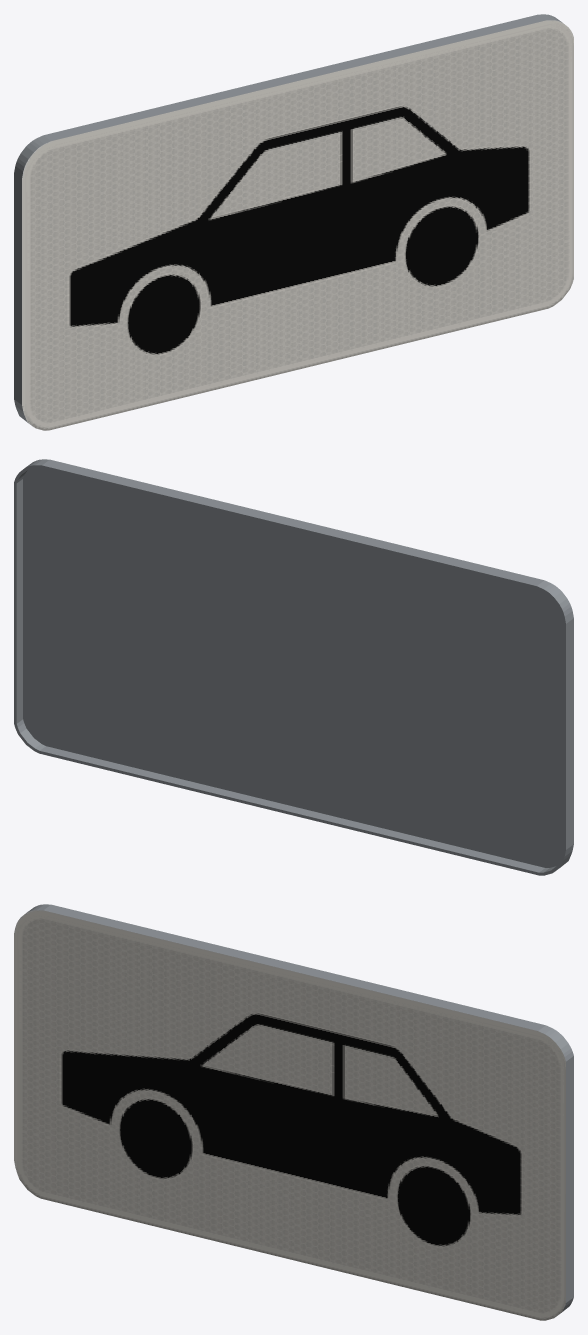
3 views of the same model, one above another, from view 1: azimuth 30°, elevation 25°; view 2: azimuth 150°, elevation 25°; view 3: azimuth 330°, elevation 25° (orthographic).
Parts seen in each view (by area): view 1: cat_813cad7806e05f41; view 2: cat_813cad7806e05f41; view 3: cat_813cad7806e05f41.
Boxes of the visible parts, box(x1,y1,x2,y2) form: cat_813cad7806e05f41: box(14, 14, 573, 430); cat_813cad7806e05f41: box(14, 459, 573, 875); cat_813cad7806e05f41: box(14, 904, 573, 1320).
Size of the model in its own units: 0.6 by 0.015 by 0.3.
2 materials, 1 textured.
